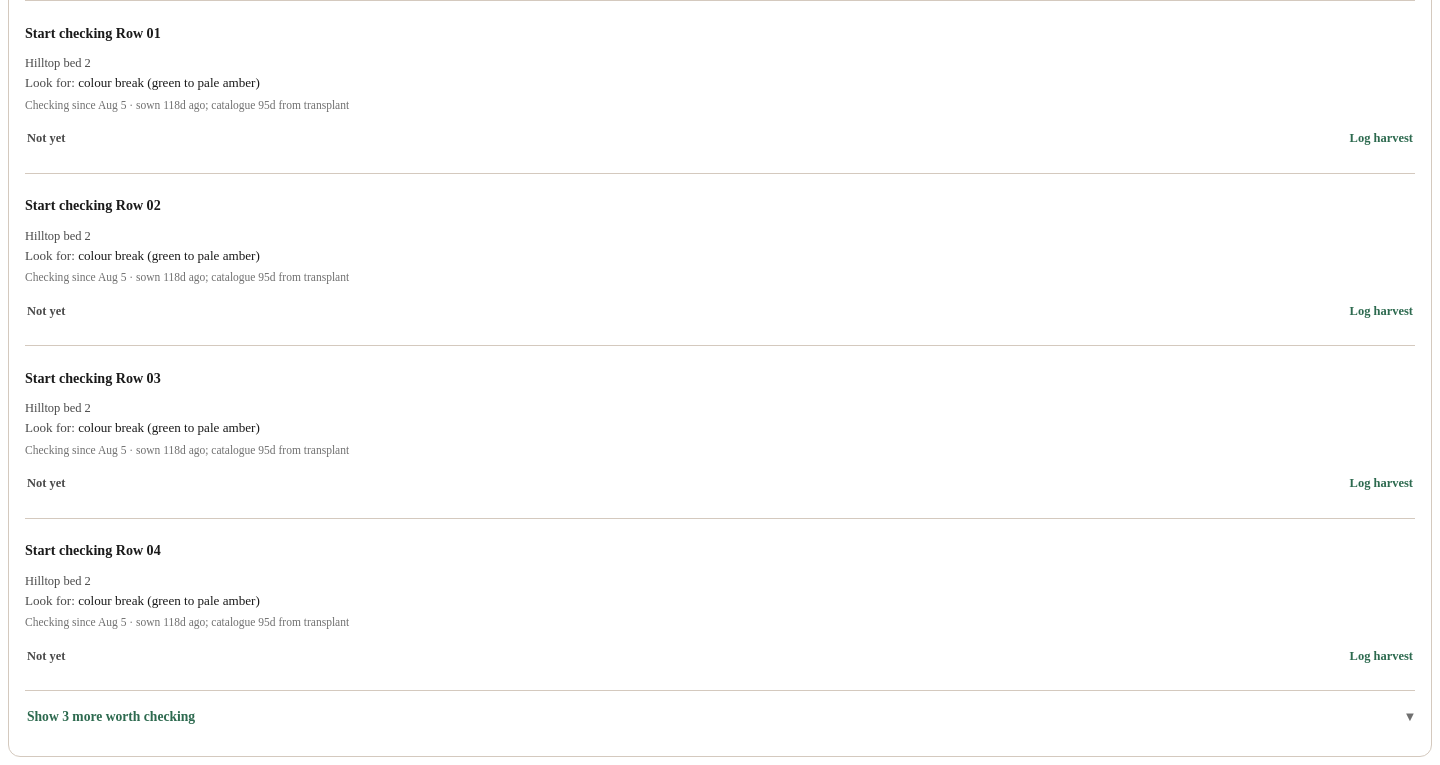
Scenario: HarvestWatchBand — the tail (panel Q4) › groups the expanded overflow by location
(page scrolled)
Click the button "Show 3 more worth checking ▾" at (45, 716), box [25,690,1415,742]
(page scrolled)
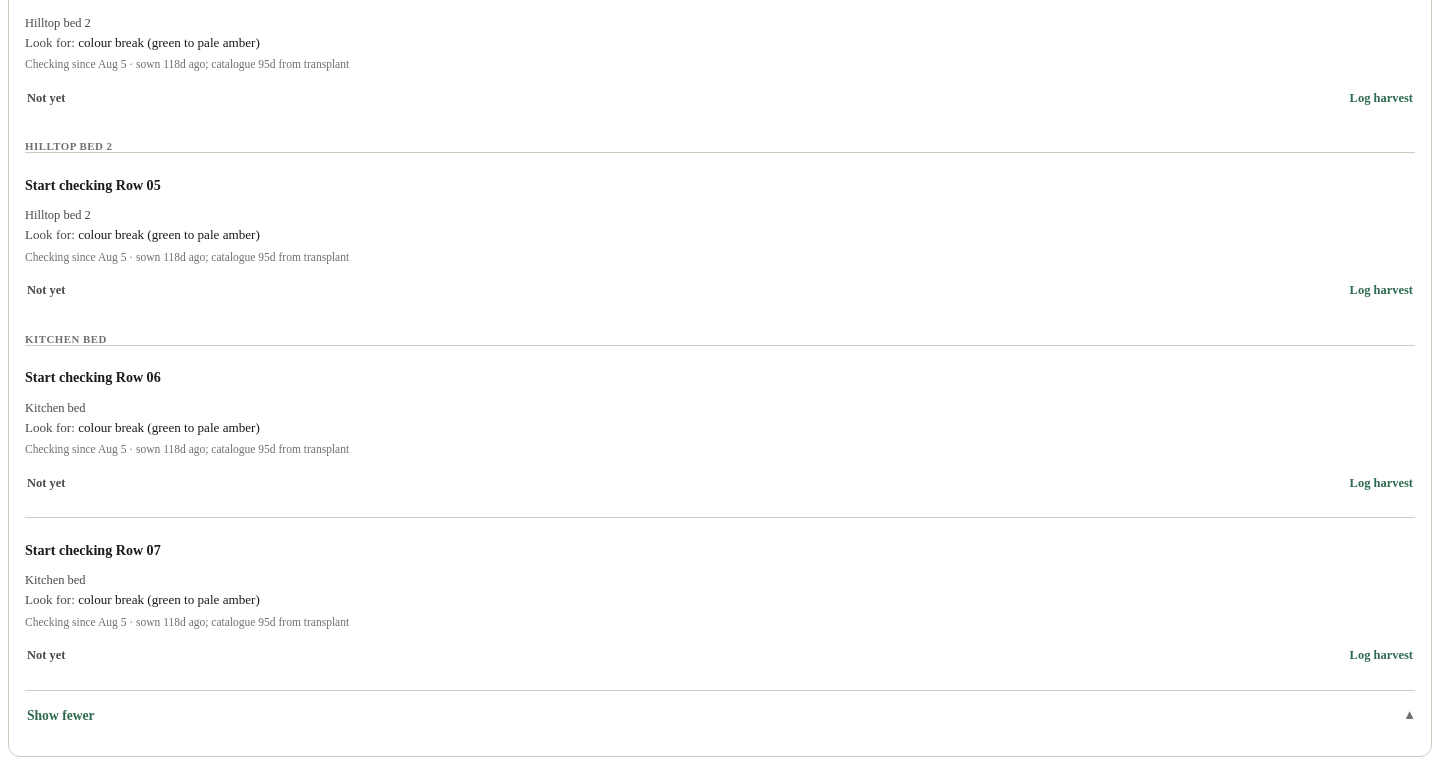
Check: the element with id "harvest-watch-tail" shows "Hilltop bed 2", box [25,140,112,152]
Check: the element with id "harvest-watch-tail" shows "Kitchen bed", box [25,333,107,345]
